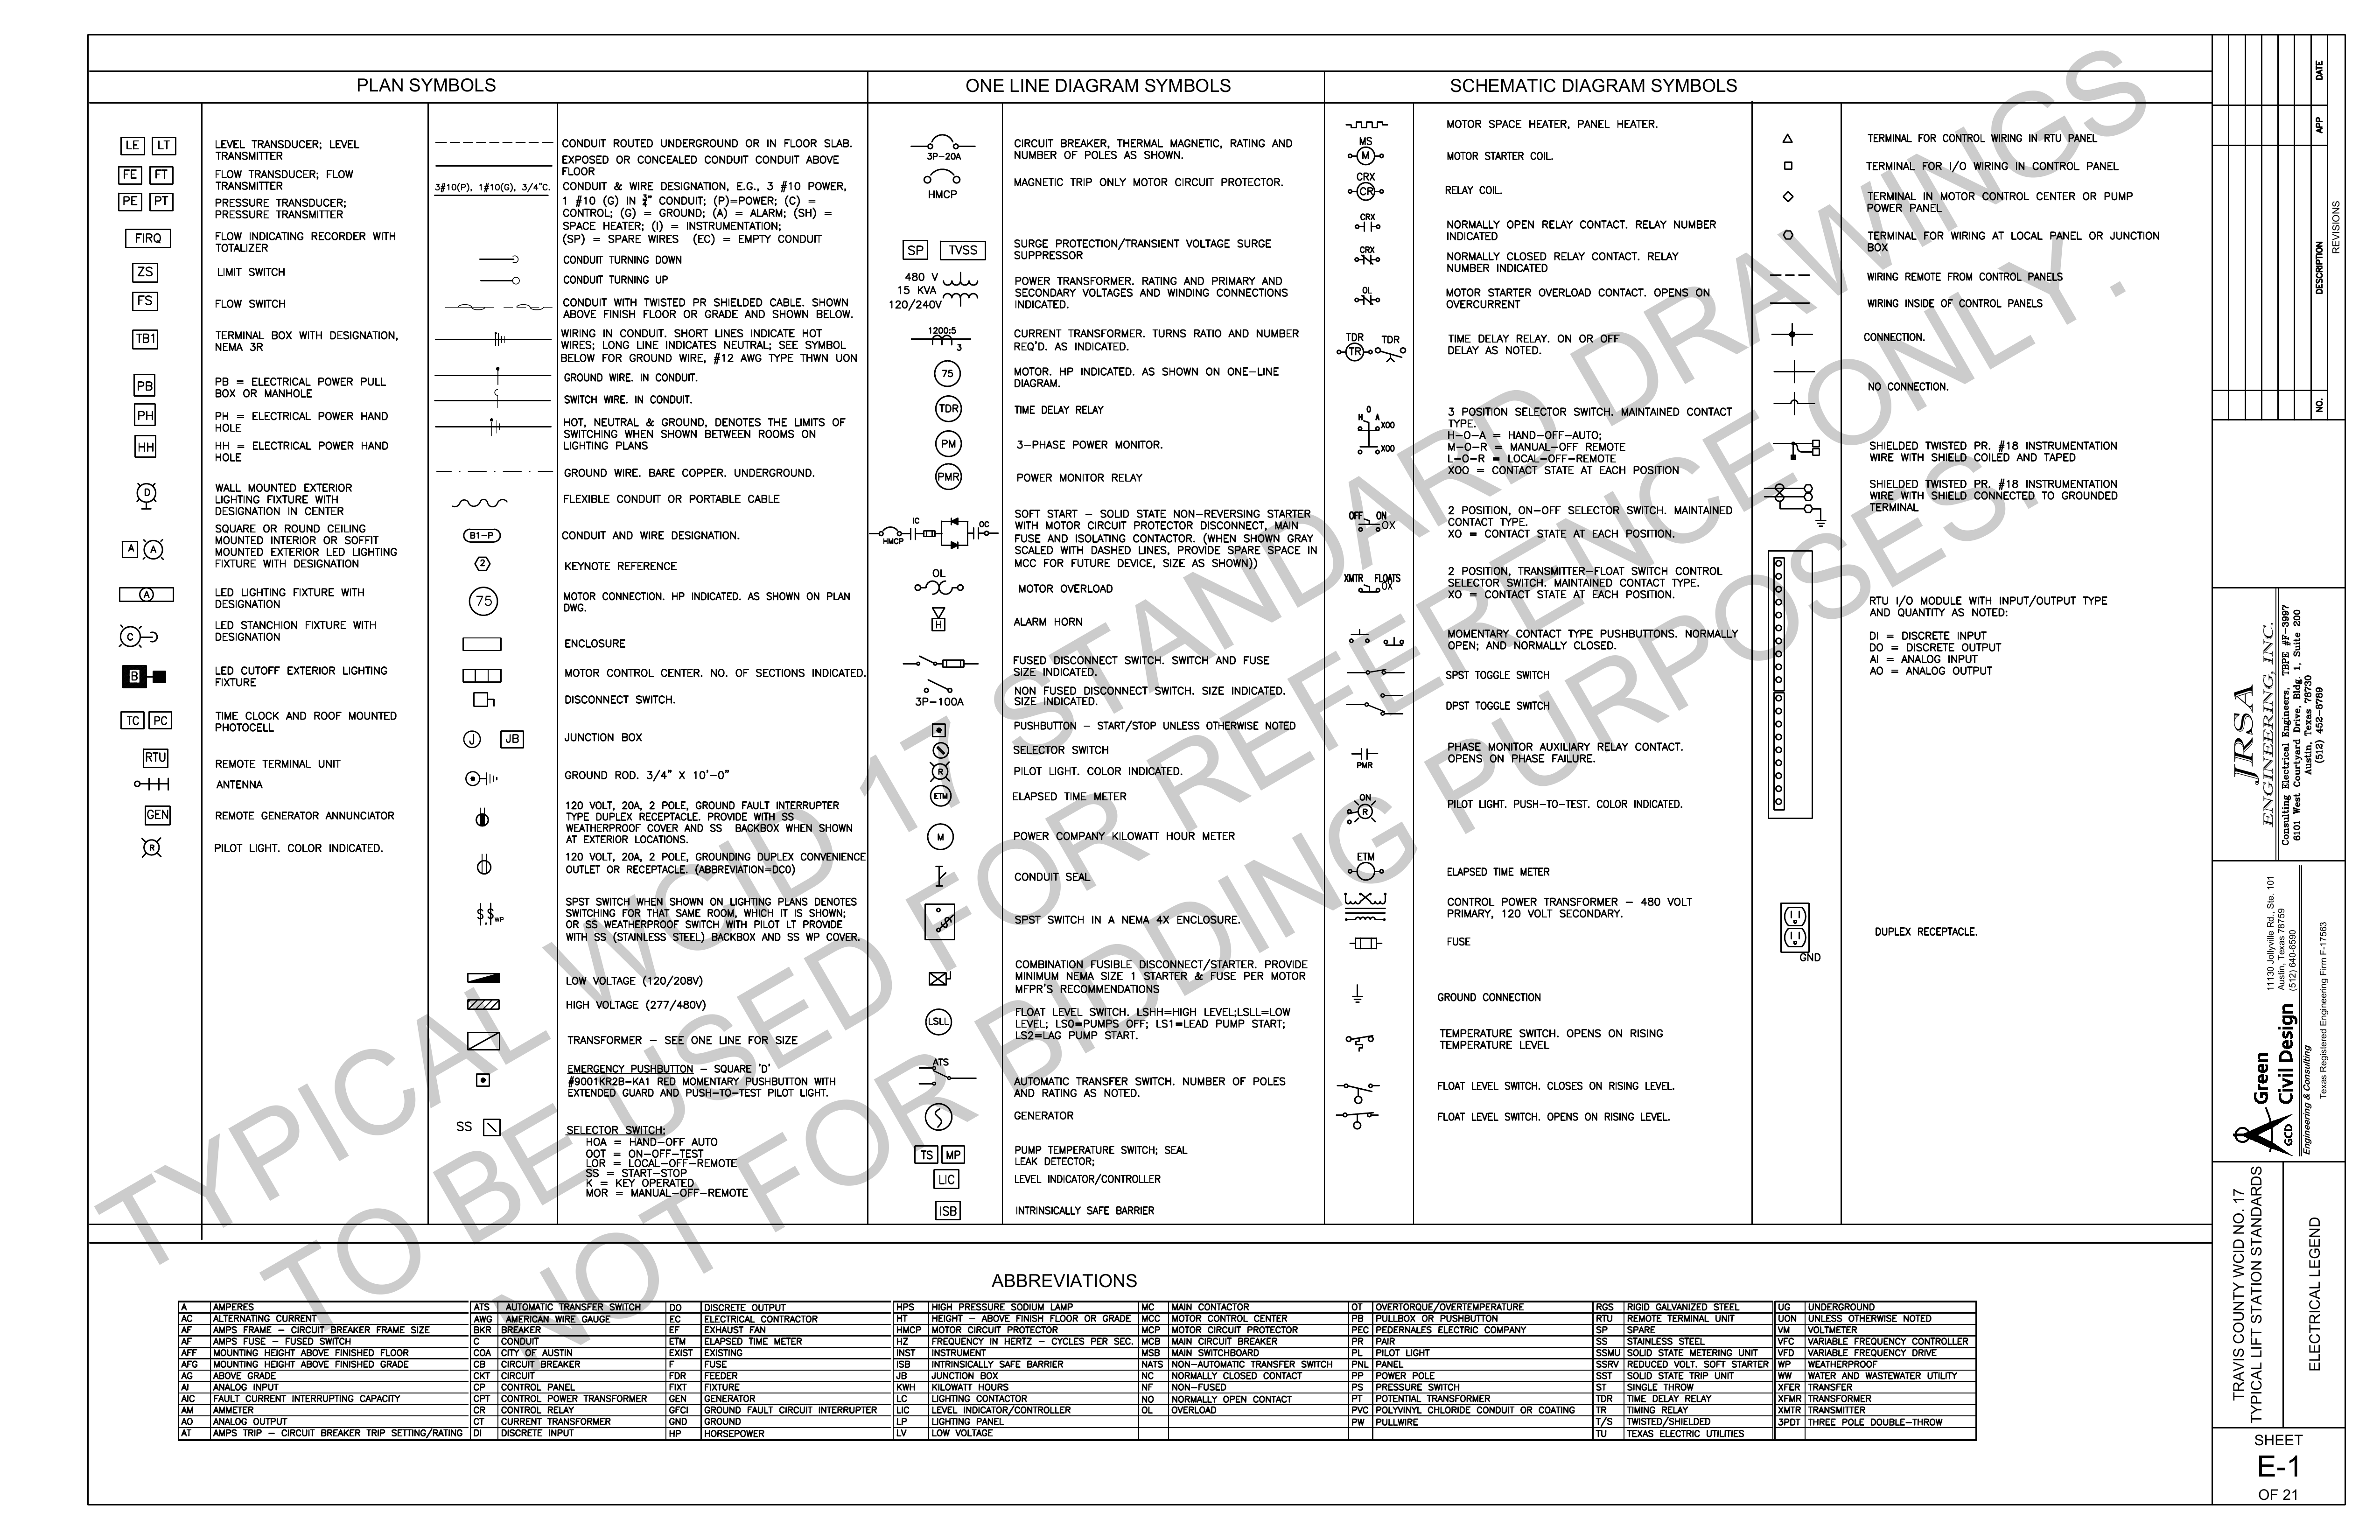circuit_breaker: (909, 125, 975, 158), (909, 163, 970, 186), (871, 520, 906, 545)
fuse: (1339, 931, 1393, 961), (940, 654, 970, 671), (918, 524, 940, 539)
ground: (1344, 978, 1369, 1008), (1808, 513, 1832, 534)
switch: (1341, 682, 1409, 723), (1325, 1106, 1388, 1136), (1331, 1073, 1384, 1106), (1339, 657, 1409, 682), (897, 647, 940, 675), (914, 680, 958, 695)
transformer: (919, 271, 996, 309), (1334, 881, 1396, 926)
